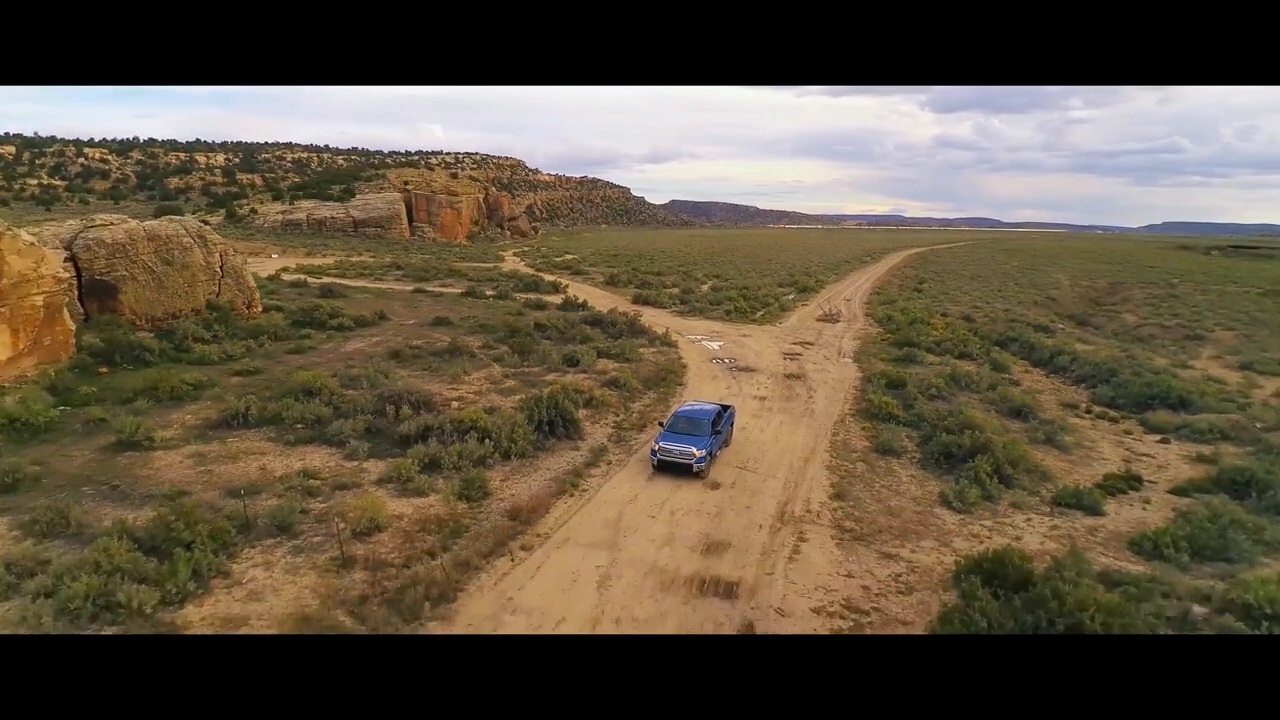kamyonet: (646, 399, 740, 479)
